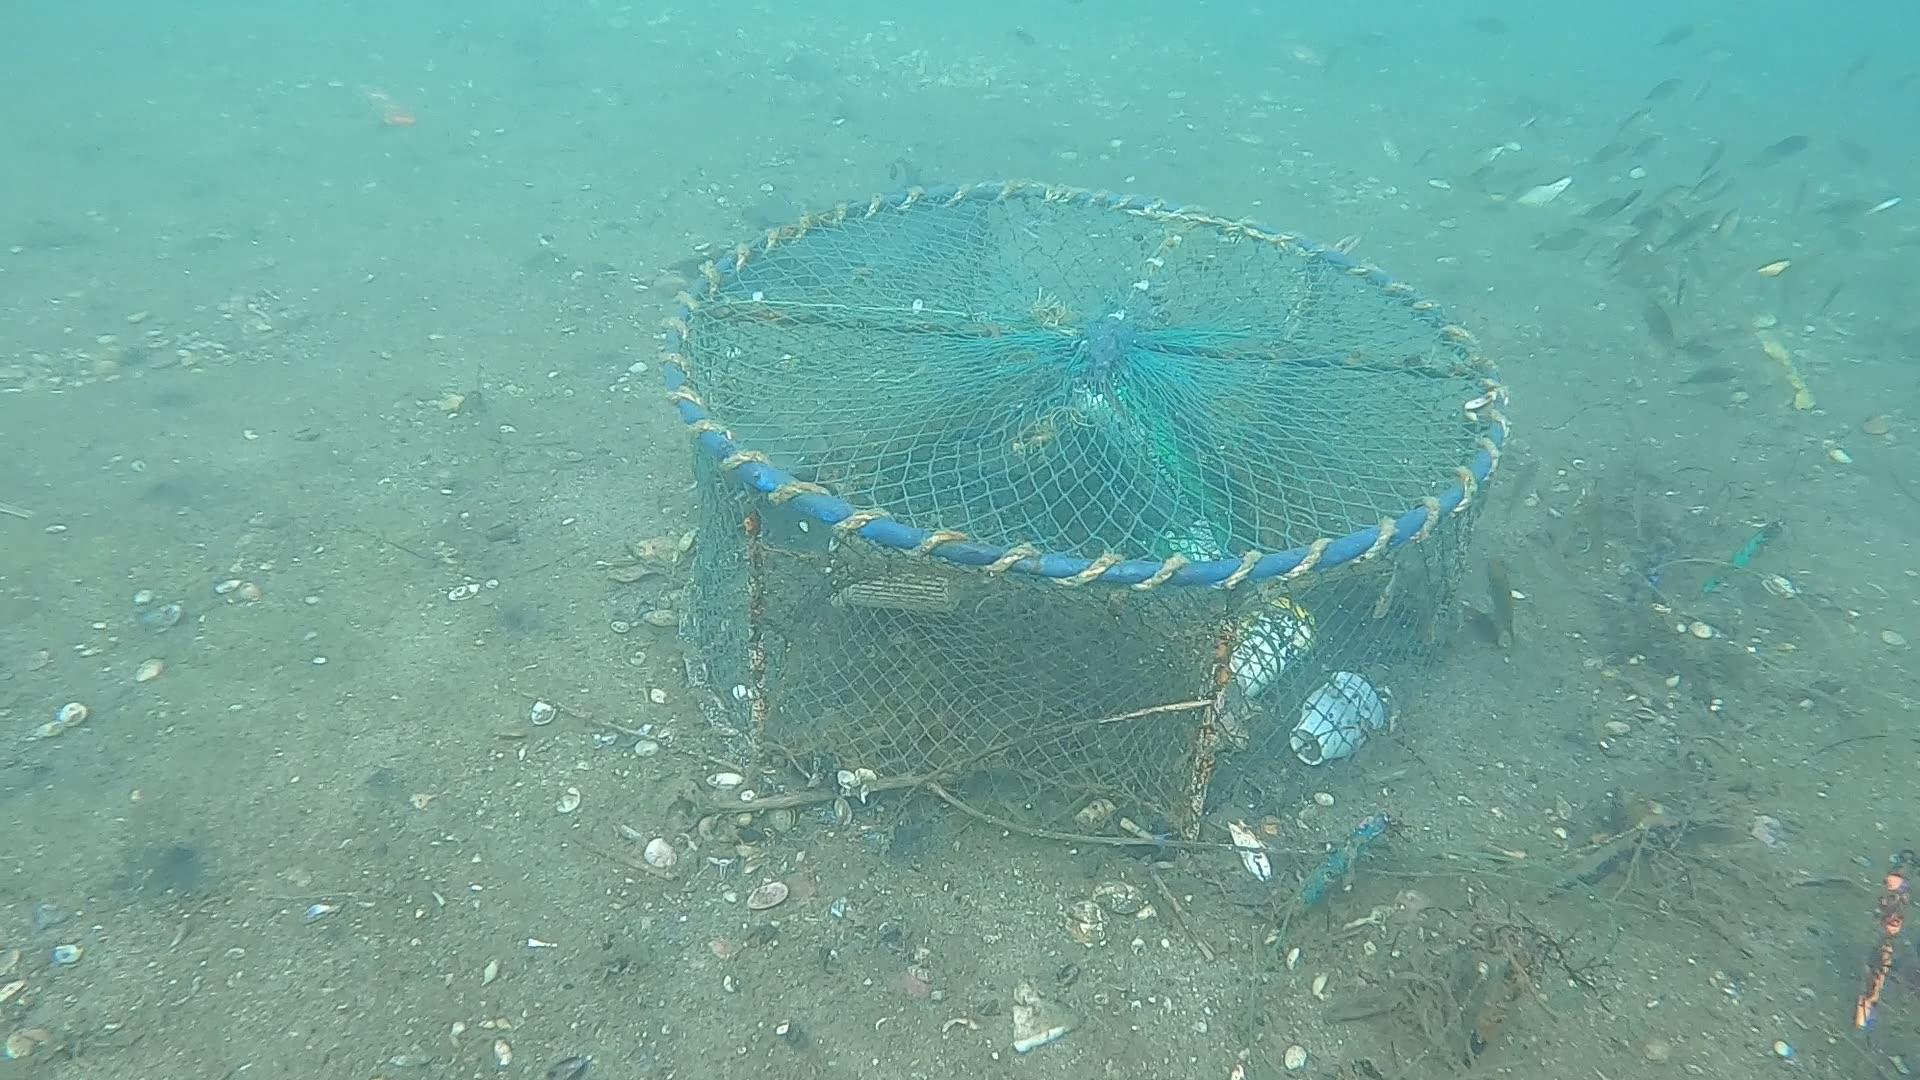circular fish trap: (658, 175, 1516, 869)
